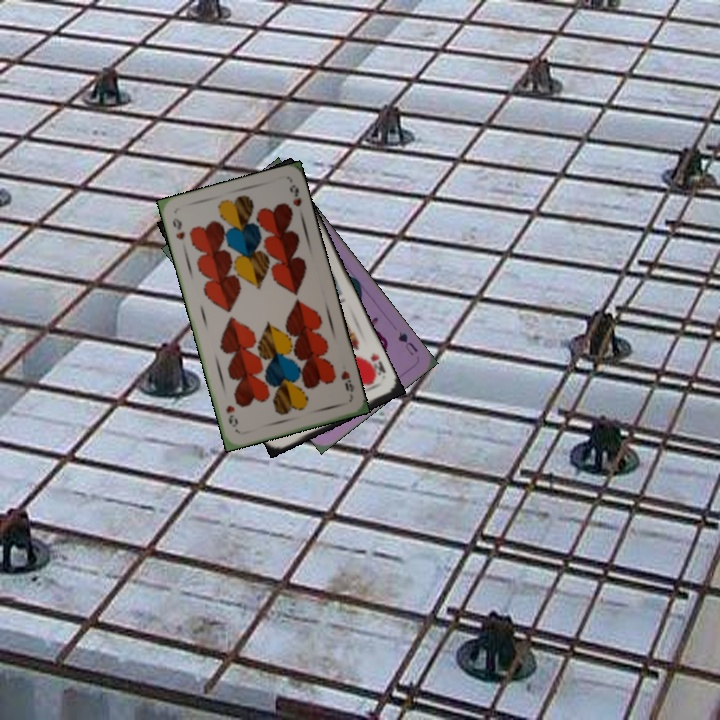GU: (394, 328, 421, 358)
H9: (337, 366, 357, 400), (168, 214, 188, 242)
HK: (362, 348, 388, 382)
